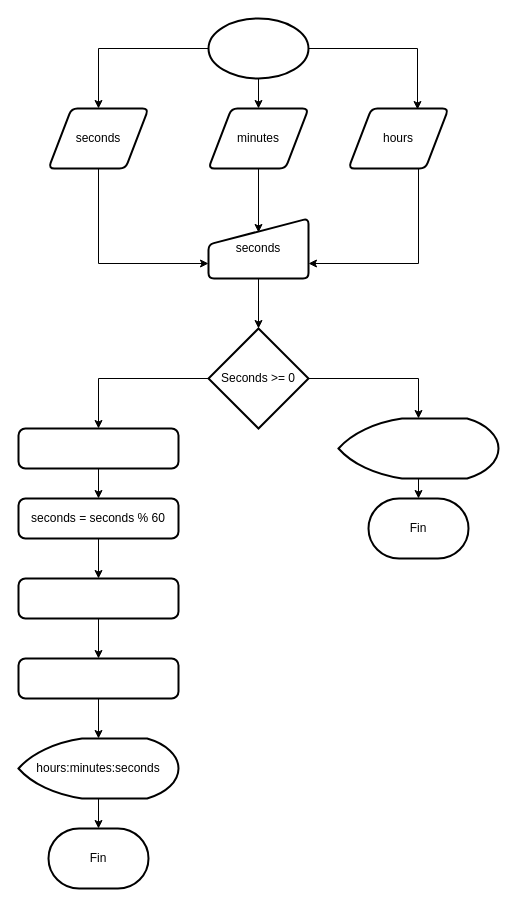
This 516x906 diagram has some shape labels left out. The shapes that lost their labels are listed below. From the top down, each one's centre as x and y in pixels, then its label:
[258,48]: Inicio
[98,448]: minutes = seconds / 60
[418,448]: "Seconds cannot be negative"
[98,598]: hours = minutes / 60
[98,678]: minutes = minutes % 60
